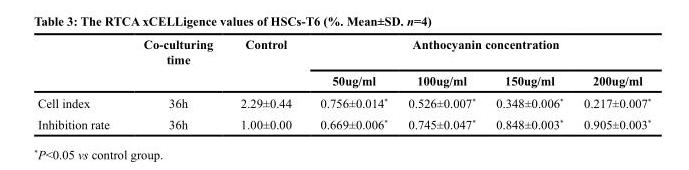table: (37, 36, 650, 131)
table column: (125, 36, 226, 131), (305, 36, 397, 131), (37, 36, 125, 131), (397, 36, 485, 131), (485, 36, 572, 131), (226, 36, 305, 131), (572, 36, 650, 131)
table column header: (37, 36, 650, 91)
table row: (37, 36, 650, 69), (37, 69, 650, 91), (37, 91, 650, 113), (37, 113, 650, 131)
table spanning cell: (305, 36, 650, 69), (125, 36, 226, 91), (226, 36, 305, 91)
